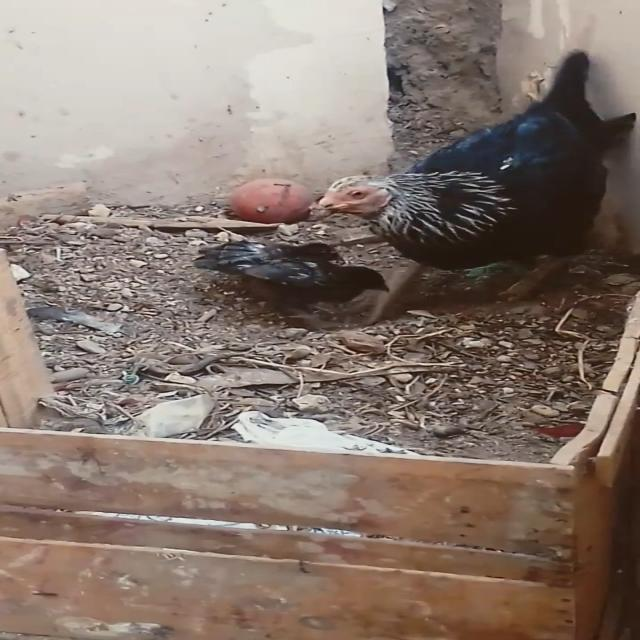stand bath: (273, 78, 634, 320)
